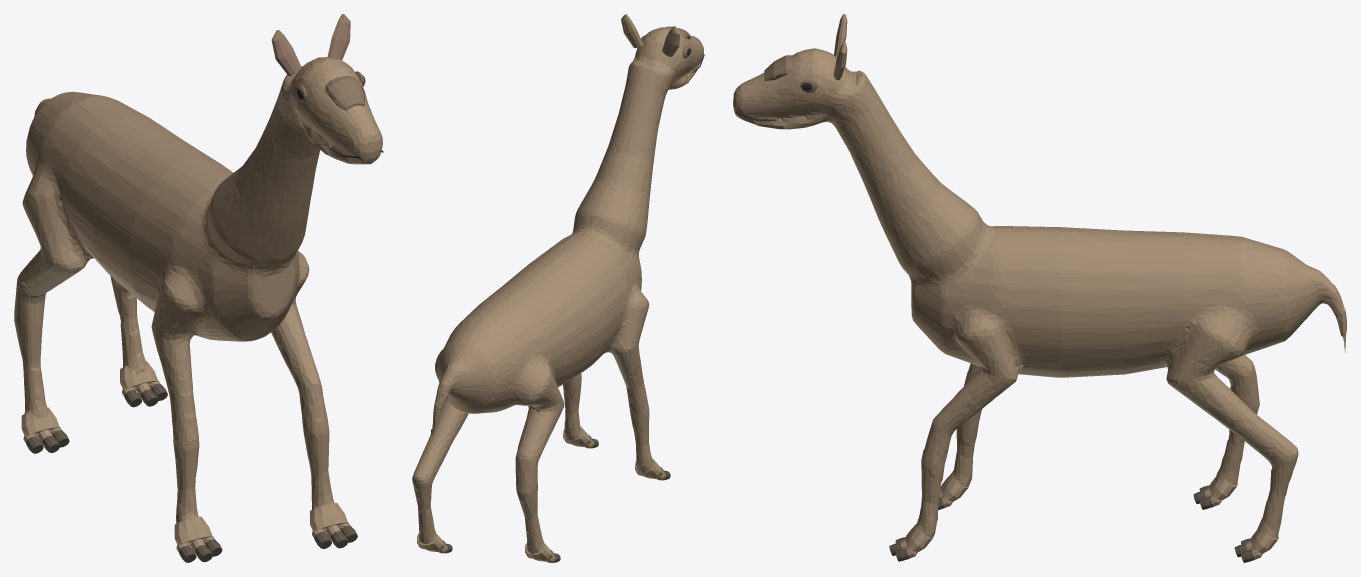
3 renders of one model, left to right at view 1: azimuth 30°, elevation 25°; view 2: azimuth 150°, elevation 25°; view 3: azimuth 270°, elevation 25°, orthographic. The views are drawn at different scales.
Parts seen in each view (by area): view 1: Continuous anatomical skin, Short elevated soft nasal pad, Fore three digit soft tissue L, Fore three digit soft tissue R, Hind three digit soft tissue L, Hind three digit soft tissue R, Small inferred pinna -1, Small inferred pinna 1, Fore three distinct terminal hooves R, Hind three distinct terminal hooves L, Fore three distinct terminal hooves L, Hind three distinct terminal hooves R; view 2: Continuous anatomical skin, Small inferred pinna 1, Small inferred pinna -1; view 3: Continuous anatomical skin.
Boxes of the visible parts, x1=… form: Continuous anatomical skin: x1=14, y1=57, x2=382, y2=523; Short elevated soft nasal pad: x1=325, y1=76, x2=364, y2=110; Fore three digit soft tissue L: x1=174, y1=516, x2=215, y2=552; Fore three digit soft tissue R: x1=310, y1=503, x2=350, y2=538; Hind three digit soft tissue L: x1=21, y1=407, x2=62, y2=443; Hind three digit soft tissue R: x1=120, y1=361, x2=160, y2=396; Small inferred pinna -1: x1=271, y1=30, x2=301, y2=76; Small inferred pinna 1: x1=327, y1=14, x2=350, y2=59; Fore three distinct terminal hooves R: x1=314, y1=525, x2=357, y2=548; Hind three distinct terminal hooves L: x1=26, y1=430, x2=69, y2=453; Fore three distinct terminal hooves L: x1=179, y1=539, x2=222, y2=562; Hind three distinct terminal hooves R: x1=124, y1=383, x2=167, y2=407; Continuous anatomical skin: x1=412, y1=27, x2=703, y2=553; Small inferred pinna 1: x1=621, y1=14, x2=643, y2=48; Small inferred pinna -1: x1=662, y1=26, x2=680, y2=56; Continuous anatomical skin: x1=733, y1=48, x2=1346, y2=539.
Size of the model in its own units: 0.846 by 2.82 by 3.13.
